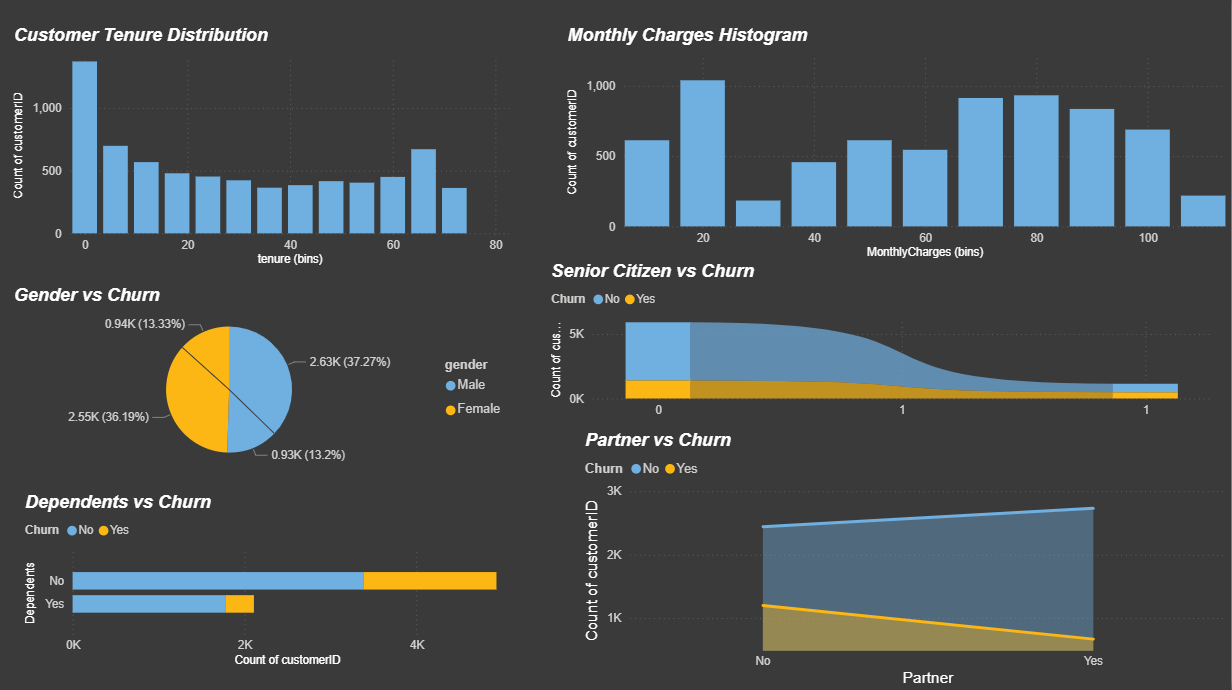

The dashboard page shown, as its layout file describes it:
{"tool":"powerbi","page":{"name":"Customer Analysis","canvas":[1280,720],"ordinal":1},"visuals":[{"type":"pieChart","title":"Gender vs Churn","fields":{"Category":["cleaned_dataset.gender"],"Series":["cleaned_dataset.Churn"],"Y":["CountNonNull(cleaned_dataset.customerID)"]},"box":[10.9,299.2,524.8,197.9],"z":2},{"type":"ribbonChart","title":"Senior Citizen vs Churn","fields":{"Category":["cleaned_dataset.SeniorCitizen"],"Series":["cleaned_dataset.Churn"],"Y":["CountNonNull(cleaned_dataset.customerID)"]},"box":[569.4,273.9,694.9,171.3],"z":3},{"type":"areaChart","title":"Partner vs Churn","fields":{"Category":["cleaned_dataset.Partner"],"Series":["cleaned_dataset.Churn"],"Y":["CountNonNull(cleaned_dataset.customerID)"]},"box":[604.4,448.8,675.6,271.4],"z":4},{"type":"barChart","title":"Dependents vs Churn","fields":{"Category":["cleaned_dataset.Dependents"],"Series":["cleaned_dataset.Churn"],"Y":["CountNonNull(cleaned_dataset.customerID)"]},"box":[21.7,513.9,513.9,185.8],"z":5},{"type":"clusteredColumnChart","title":"Customer Tenure Distribution","fields":{"Category":["cleaned_dataset.tenure (bins)"],"Y":["CountNonNull(cleaned_dataset.customerID)"]},"box":[10.9,29,524.8,255.8],"z":6},{"type":"clusteredColumnChart","title":"Monthly Charges Histogram","fields":{"Y":["CountNonNull(cleaned_dataset.customerID)"],"Category":["cleaned_dataset.MonthlyCharges (bins)"]},"box":[586.3,29,693.7,248.5],"z":7}]}

Visuals, with their boxes in screenshot pixels (x1, y1, x2, y2), scaled from the page's 1280x720 canvas onto the 1232x690 screenshot:
"Gender vs Churn" pieChart: region(10, 287, 516, 476)
"Senior Citizen vs Churn" ribbonChart: region(548, 262, 1217, 427)
"Partner vs Churn" areaChart: region(582, 430, 1231, 689)
"Dependents vs Churn" barChart: region(21, 492, 516, 671)
"Customer Tenure Distribution" clusteredColumnChart: region(10, 28, 516, 273)
"Monthly Charges Histogram" clusteredColumnChart: region(564, 28, 1231, 266)
